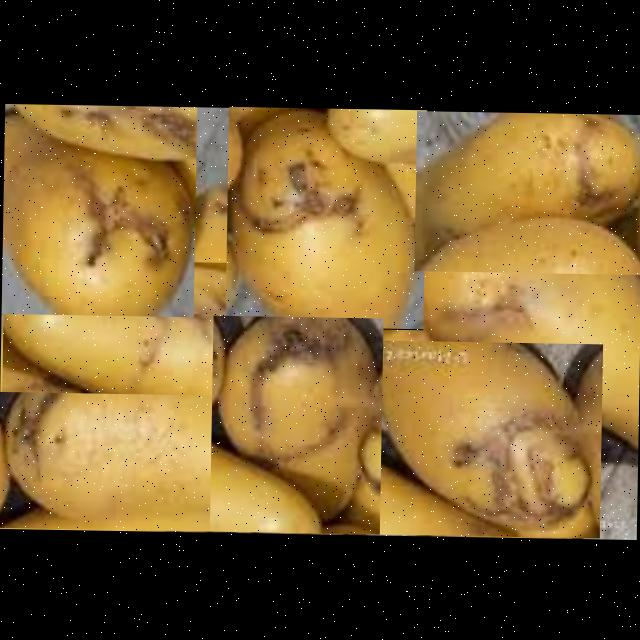Diseased-fungal potato: (406, 196, 640, 448), (0, 257, 321, 423), (346, 338, 602, 537), (224, 105, 426, 328), (0, 102, 196, 316), (208, 314, 382, 533), (413, 109, 640, 274), (0, 390, 228, 530)
